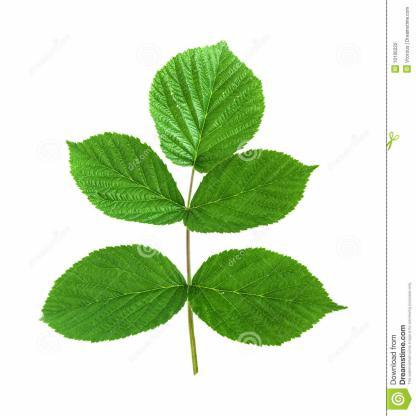Soyabean leaf: (188, 248, 350, 346), (152, 38, 266, 174), (38, 243, 186, 345), (187, 147, 319, 235), (66, 131, 187, 225)
